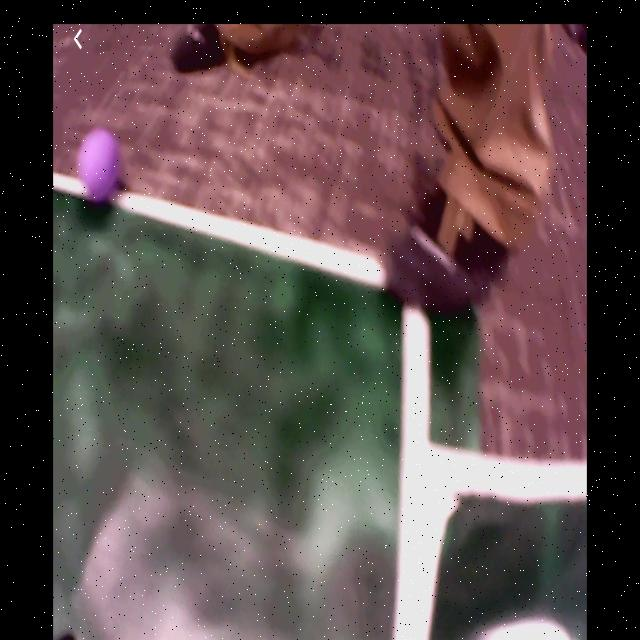ball: (79, 129, 119, 199)
